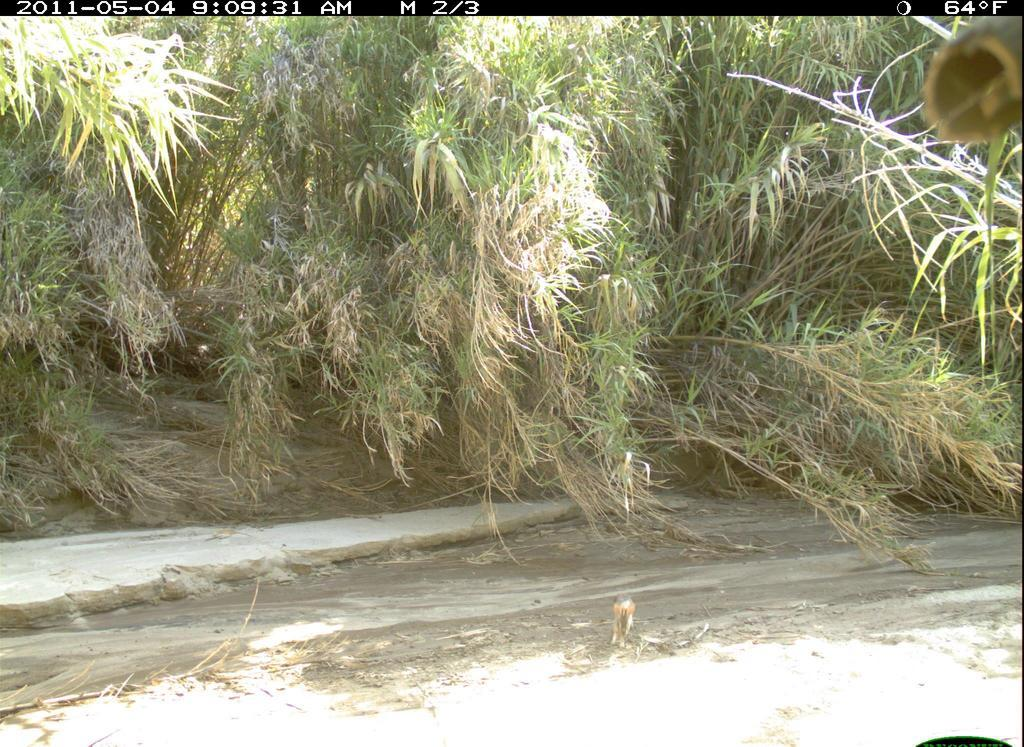rabbit: (607, 596, 641, 653)
